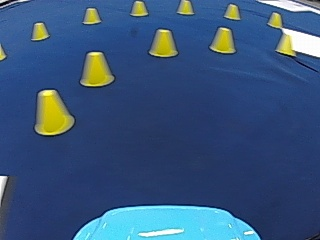cone: (34, 88, 73, 135), (79, 50, 114, 87), (148, 28, 177, 57), (209, 26, 235, 54), (275, 31, 292, 54), (31, 21, 48, 40), (82, 7, 100, 24), (130, 0, 147, 16), (224, 3, 240, 20), (267, 11, 282, 28), (177, 0, 193, 15)
